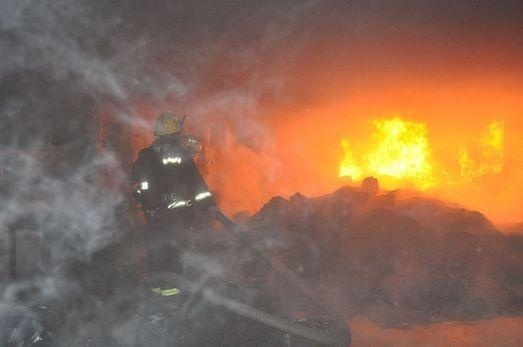fire: (335, 111, 508, 190)
